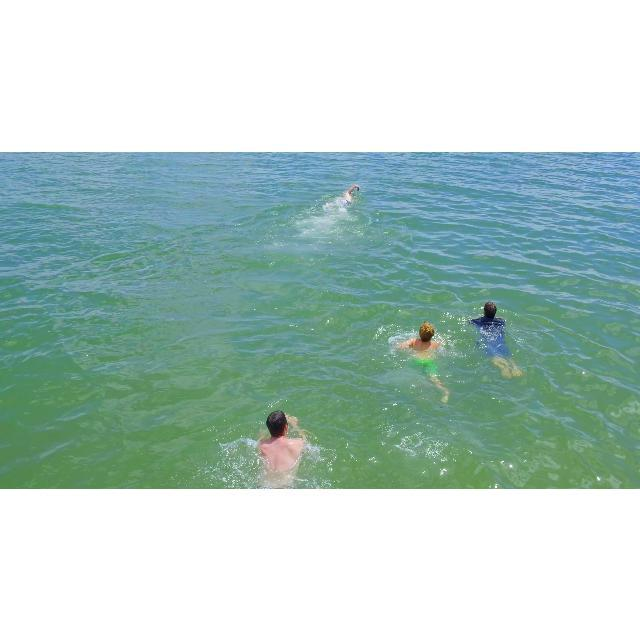human: (397, 322, 453, 400), (257, 409, 312, 488), (473, 302, 523, 379), (343, 184, 360, 205)
